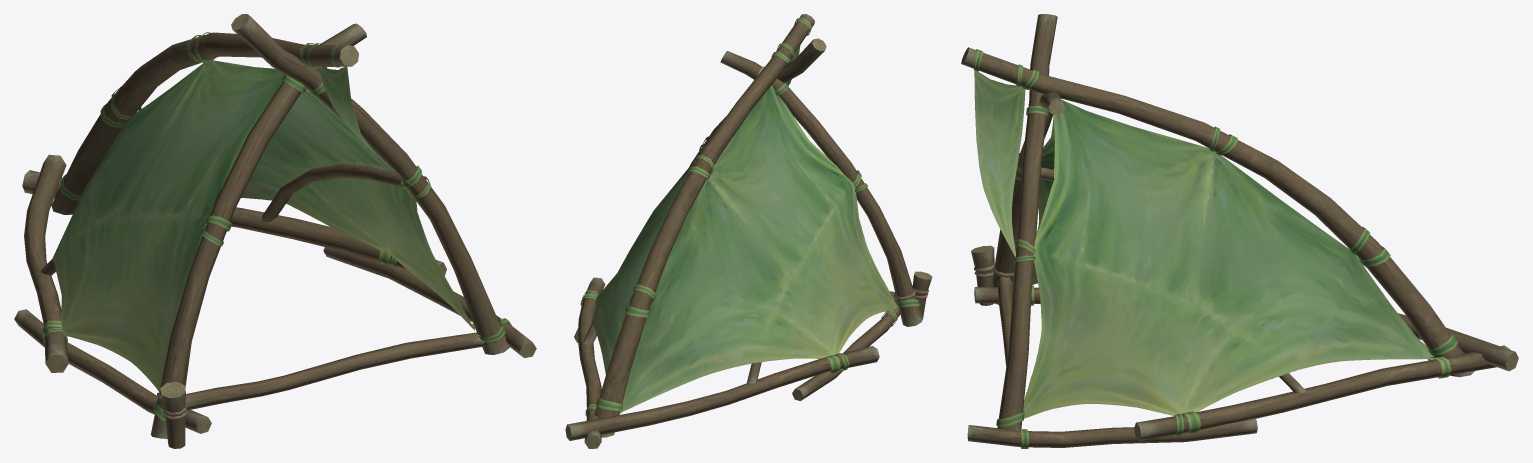
The model's file is Homeworld_Exterior_Xm_Build_Forest_04_Lod0.fbx.
3 renders of one model, left to right at view 1: azimuth 30°, elevation 25°; view 2: azimuth 150°, elevation 25°; view 3: azimuth 270°, elevation 25°, orthographic. The views are drawn at different scales.
Visible parts, largest first — view 1: Area_Xm_Build_Common_Yizhan_Zhangpeng_02_A_Lod0, Area_Xm_Build_Common_Yizhan_Zhangpeng_02_Lod0; view 2: Area_Xm_Build_Common_Yizhan_Zhangpeng_02_A_Lod0, Area_Xm_Build_Common_Yizhan_Zhangpeng_02_Lod0; view 3: Area_Xm_Build_Common_Yizhan_Zhangpeng_02_A_Lod0, Area_Xm_Build_Common_Yizhan_Zhangpeng_02_Lod0.
Part boxes in pixels (x1,y1,x2,y2): Area_Xm_Build_Common_Yizhan_Zhangpeng_02_A_Lod0: (42,32,511,421); Area_Xm_Build_Common_Yizhan_Zhangpeng_02_Lod0: (14,14,536,448); Area_Xm_Build_Common_Yizhan_Zhangpeng_02_A_Lod0: (580,18,920,416); Area_Xm_Build_Common_Yizhan_Zhangpeng_02_Lod0: (565,14,932,448); Area_Xm_Build_Common_Yizhan_Zhangpeng_02_A_Lod0: (973,49,1458,448); Area_Xm_Build_Common_Yizhan_Zhangpeng_02_Lod0: (961,14,1518,447).
Size of the model in its own units: 4.24 by 3.87 by 5.84.
